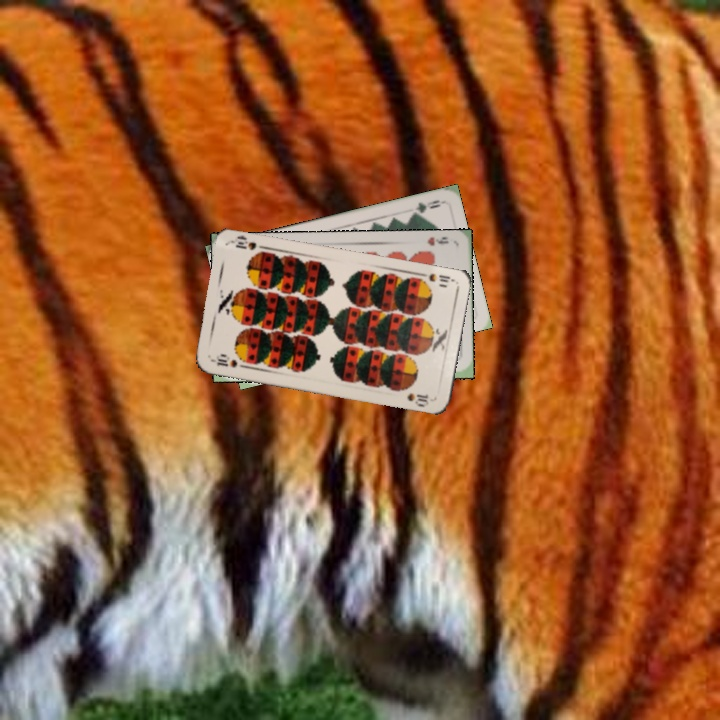G9: (407, 196, 443, 218)
H9: (424, 233, 451, 248)
S10: (209, 352, 249, 370), (415, 269, 456, 286)
